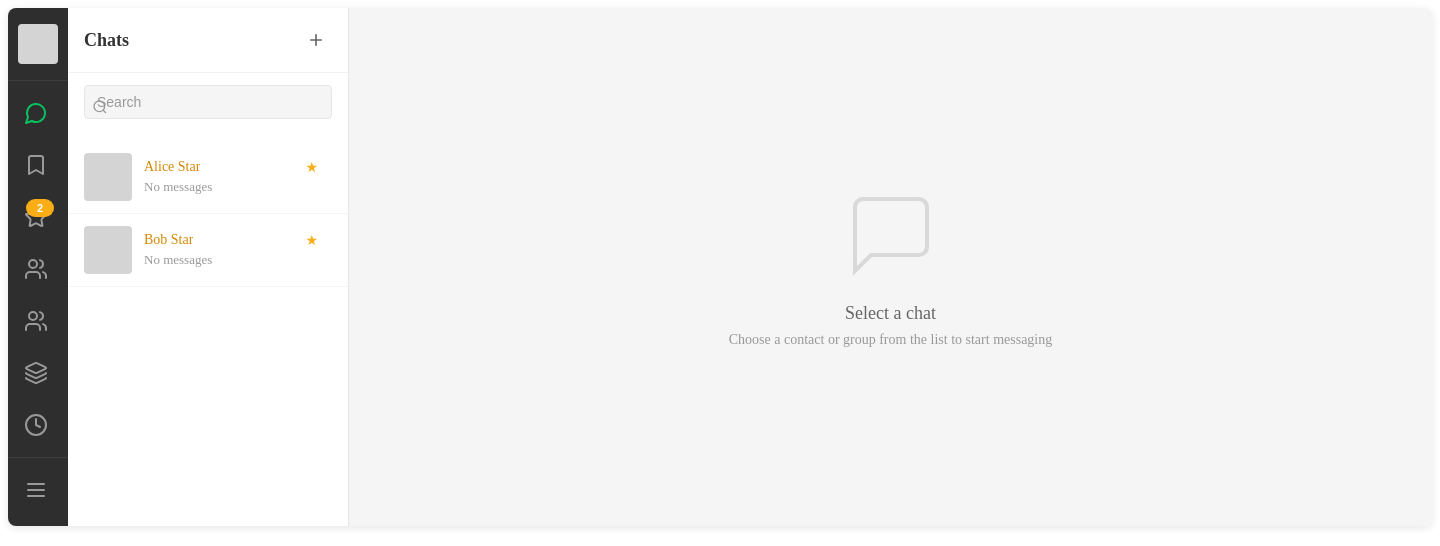
Test: ImMessenger favorites › filters favorites by search query
Click the button with class "nav-item" showing "2". click: (36, 217)
box: [12, 193, 60, 241]
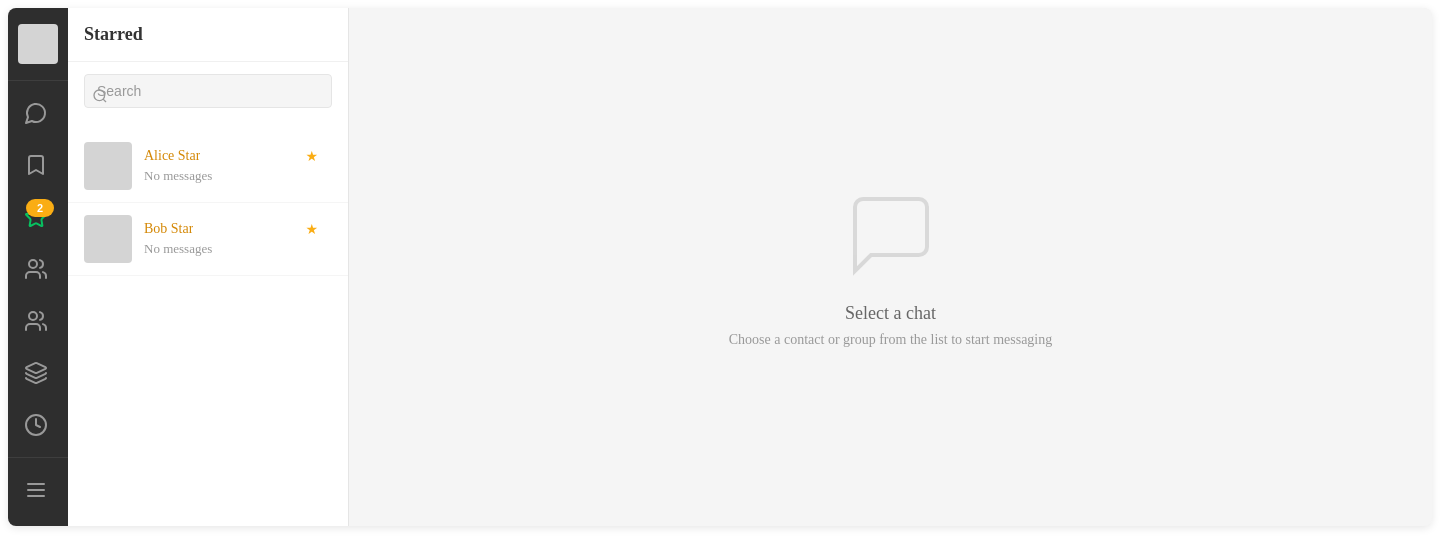
Type "bob" into the search field with class "search-input". click: (208, 91)
box: [84, 74, 332, 108]
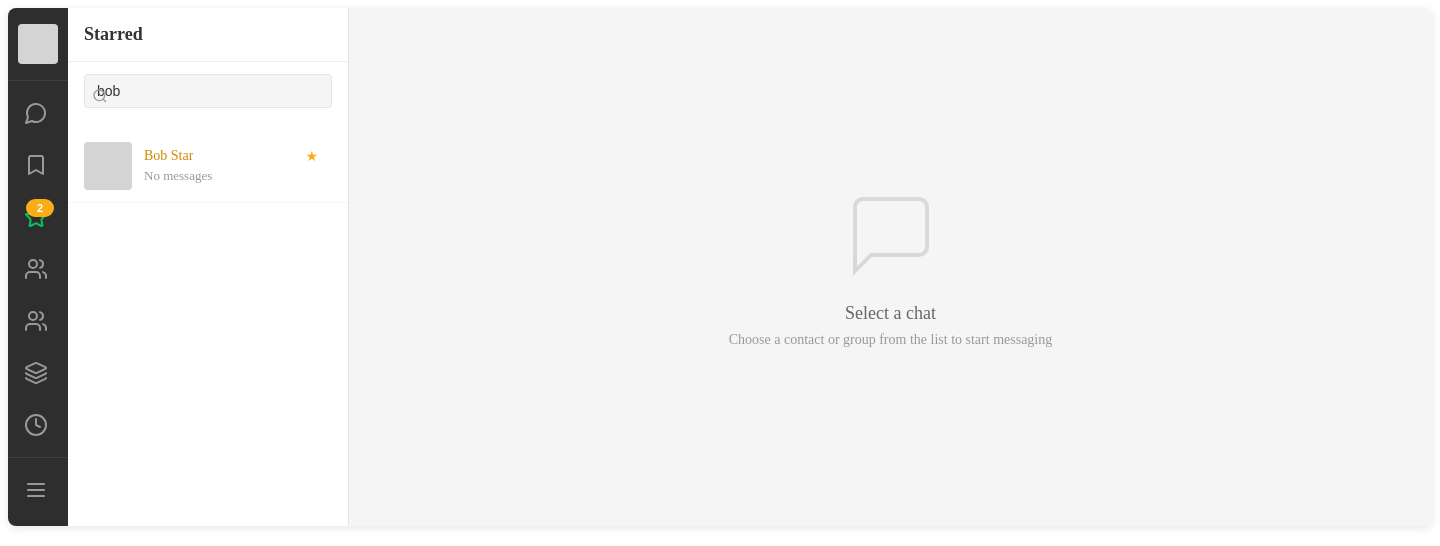
Expected: the elements with class "chat-name" read "Bob Star", in this order, [144, 148, 193, 164]
